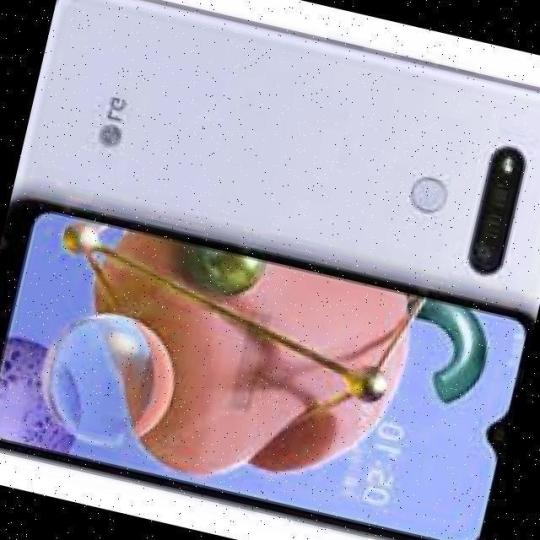phone: (0, 161, 539, 539), (0, 0, 539, 328)
